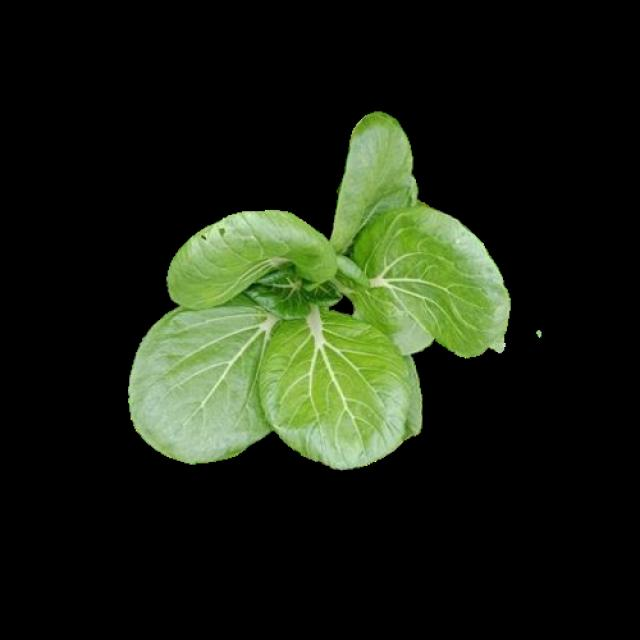healthy: (127, 111, 507, 468)
mature: (130, 114, 510, 470)
